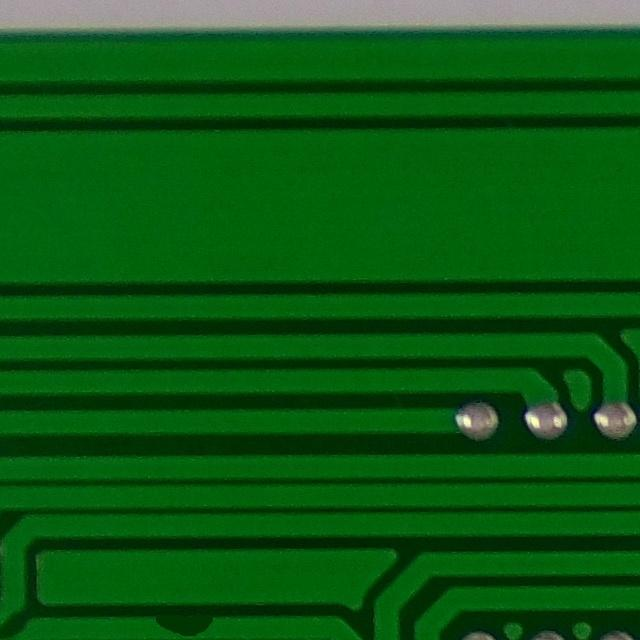mouse_bite: (144, 606, 222, 640)
